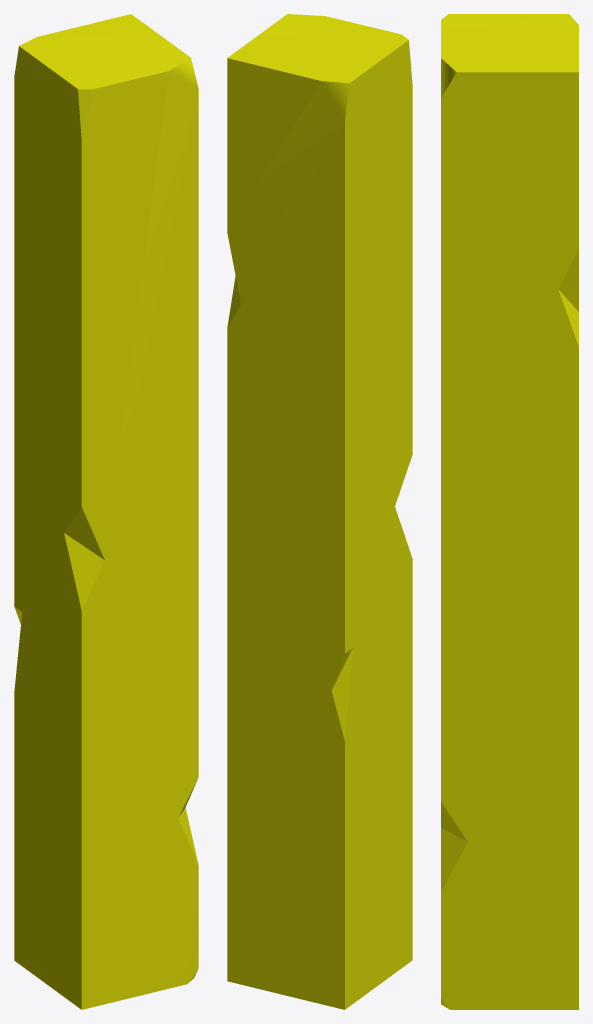
The model's file is SM_PolygonPrototype_Buildings_Column_2x3_01P.glb.
3 renders of one model, left to right at view 1: azimuth 30°, elevation 25°; view 2: azimuth 150°, elevation 25°; view 3: azimuth 270°, elevation 25°, orthographic. The views are drawn at different scales.
Visible parts, largest first — view 1: SM_PolygonPrototype_Buildings_Column_2x3_01P; view 2: SM_PolygonPrototype_Buildings_Column_2x3_01P; view 3: SM_PolygonPrototype_Buildings_Column_2x3_01P.
Boxes of the visible parts, left/top/right/bottom form: SM_PolygonPrototype_Buildings_Column_2x3_01P: left=14, top=14, right=198, bottom=1009; SM_PolygonPrototype_Buildings_Column_2x3_01P: left=227, top=14, right=412, bottom=1009; SM_PolygonPrototype_Buildings_Column_2x3_01P: left=441, top=14, right=578, bottom=1009.
Bounding box in the file's own units: 0.4 × 3 × 0.4.
1 material, 1 textured.
